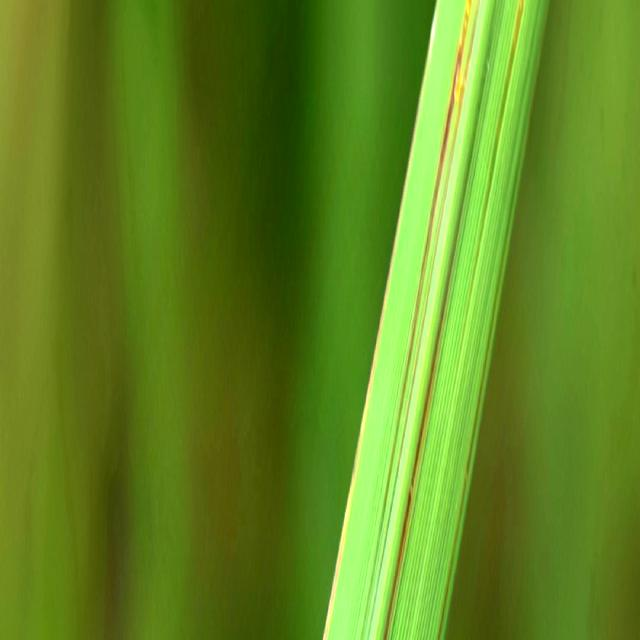BLS: (383, 0, 497, 640), (367, 0, 481, 640), (374, 0, 473, 565), (437, 128, 524, 640), (475, 0, 524, 265)
